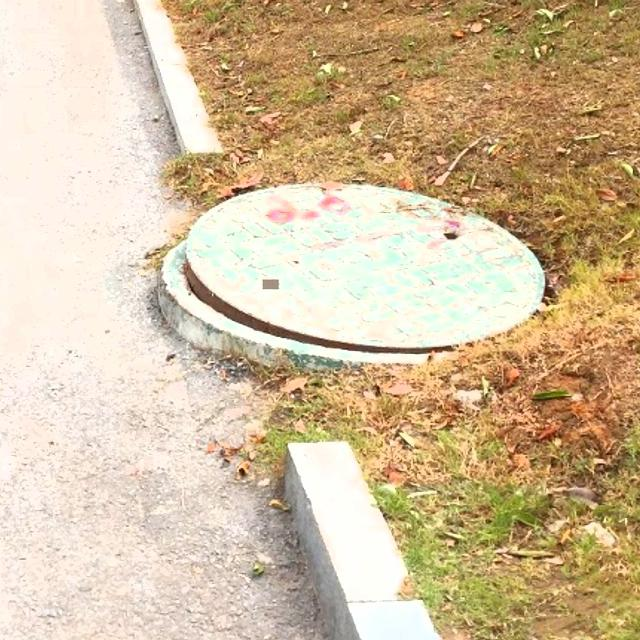uncovered: (156, 183, 546, 361)
